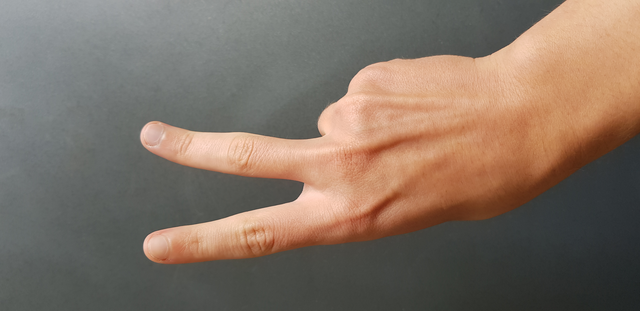Scissors: (115, 42, 559, 270)
